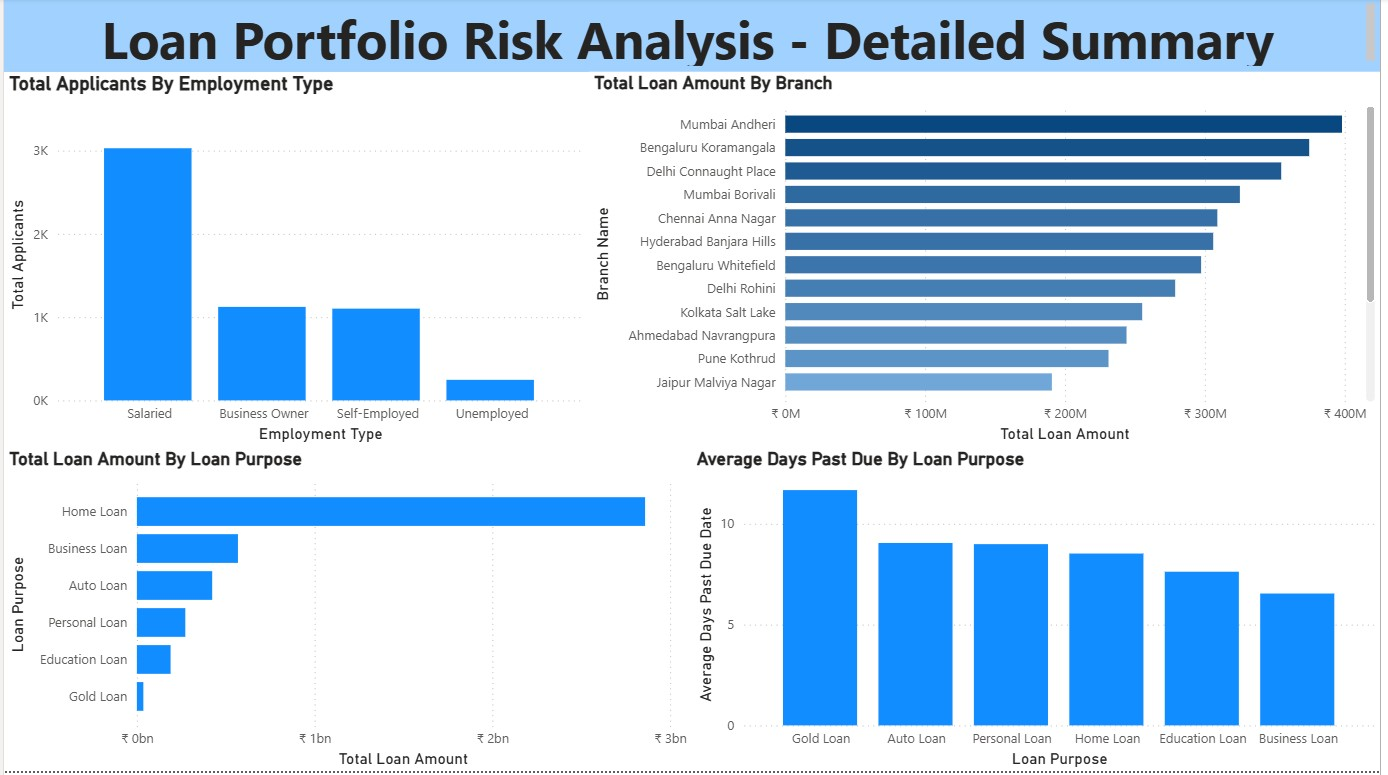

This screenshot's page, from the dashboard's own definition file:
{"tool":"powerbi","page":{"name":"Detailed Analysis","canvas":[1280,720],"ordinal":1},"visuals":[{"type":"clusteredColumnChart","title":"Total Applicants By Employment Type","fields":{"Category":["loan_applications.Employment_Type"],"Y":["Count(loan_applications.Applicant_ID)"]},"box":[0,68.5,544.2,349.7],"z":0},{"type":"textbox","box":[0,0,1280.3,68.5],"z":1000},{"type":"clusteredBarChart","title":"Total Loan Amount By Branch","fields":{"Category":["brach_masters.Branch_Name"],"Y":["Sum(loan_applications.Loan_Amount_INR)"]},"box":[544.2,68.5,736.1,349.7],"z":2000},{"type":"clusteredColumnChart","title":"Average Days Past Due By Loan Purpose","fields":{"Category":["loan_applications.Loan_Purpose"],"Y":["Avg(loan_applications.Days_Past_Due)"]},"box":[639.5,418.2,640.8,302],"z":3000},{"type":"clusteredBarChart","title":"Total Loan Amount By Loan Purpose","fields":{"Category":["loan_applications.Loan_Purpose"],"Y":["Sum(loan_applications.Loan_Amount_INR)"]},"box":[0,418.2,640.8,302],"z":4000}]}

Visuals, with their boxes in screenshot pixels (x1, y1, x2, y2), scaled from the page's 1280x720 canvas onto the 1388x775 screenshot:
"Total Applicants By Employment Type" clusteredColumnChart: bbox=(0, 74, 590, 450)
textbox: bbox=(0, 0, 1387, 74)
"Total Loan Amount By Branch" clusteredBarChart: bbox=(590, 74, 1387, 450)
"Average Days Past Due By Loan Purpose" clusteredColumnChart: bbox=(693, 450, 1387, 774)
"Total Loan Amount By Loan Purpose" clusteredBarChart: bbox=(0, 450, 695, 774)
